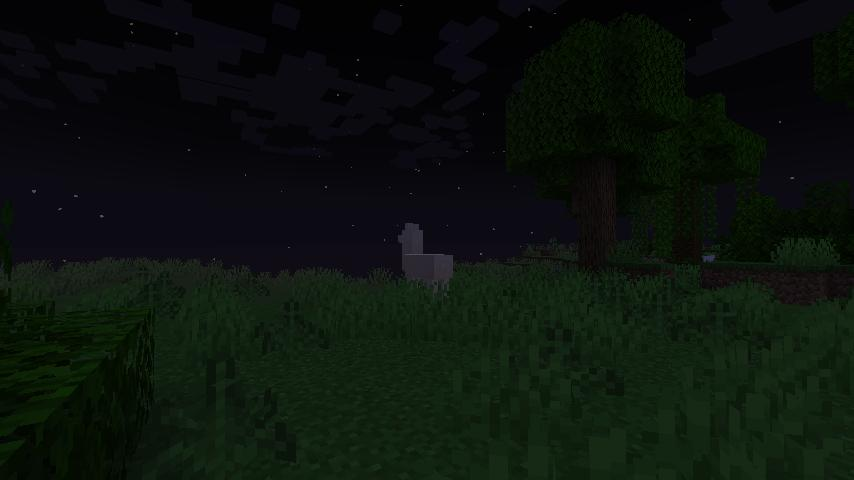llama: (394, 220, 455, 305)
